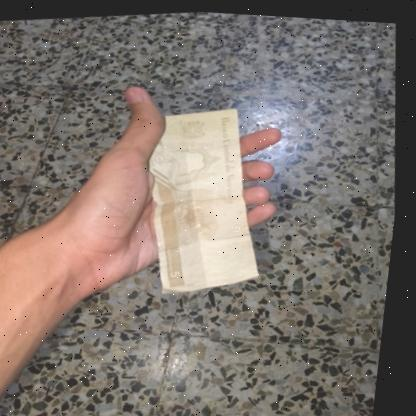five-back-vef: (136, 98, 281, 297)
